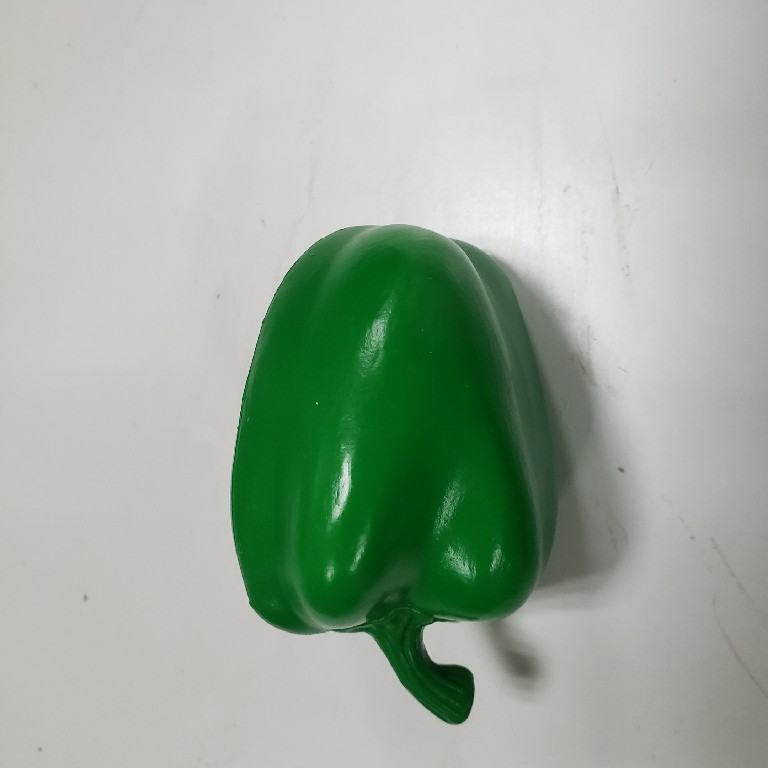fruit_pepper: (223, 221, 564, 729)
